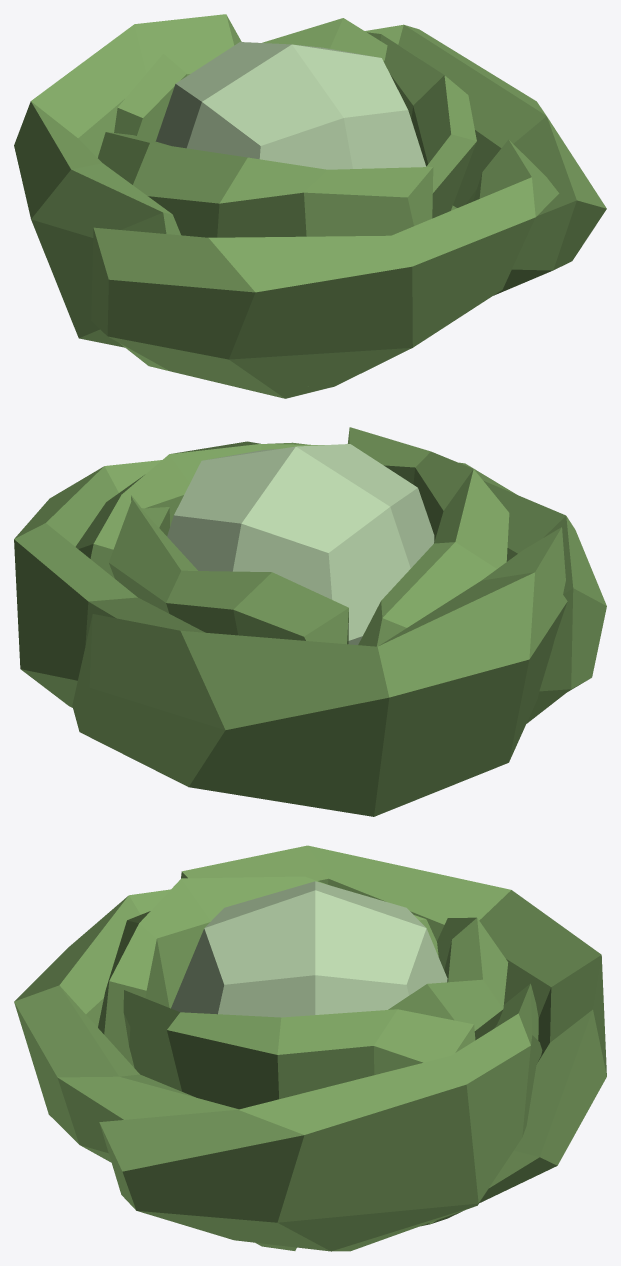
Rendered from Cabbage.fbx.
The picture shows the model from 3 angles, top to bottom: view 1: azimuth 30°, elevation 25°; view 2: azimuth 150°, elevation 25°; view 3: azimuth 270°, elevation 25°; orthographic projection. The views are drawn at different scales.
Visible parts, largest first — view 1: Cube.001, Cube, Cube.005, Cube.002, Cube.007, Cube.003, Cube.004; view 2: Cube.005, Cube, Cube.007, Cube.004, Cube.002, Cube.001, Cube.003; view 3: Cube.007, Cube.005, Cube, Cube.003, Cube.001, Cube.002, Cube.004.
Part boxes in pixels (<box>): Cube.001: <box>91,139,559,398</box>; Cube: <box>155,42,426,169</box>; Cube.005: <box>14,14,241,347</box>; Cube.002: <box>98,132,433,237</box>; Cube.007: <box>365,24,606,295</box>; Cube.003: <box>367,32,476,218</box>; Cube.004: <box>114,18,387,141</box>; Cube.005: <box>72,527,567,816</box>; Cube: <box>167,444,434,644</box>; Cube.007: <box>14,460,204,707</box>; Cube.004: <box>109,495,348,644</box>; Cube.002: <box>347,427,509,646</box>; Cube.001: <box>267,442,606,723</box>; Cube.003: <box>75,441,324,578</box>; Cube.007: <box>99,983,542,1251</box>; Cube.005: <box>181,845,606,1226</box>; Cube: <box>171,881,447,1017</box>; Cube.003: <box>123,990,475,1109</box>; Cube.001: <box>14,889,296,1250</box>; Cube.002: <box>98,876,438,1067</box>; Cube.004: <box>388,917,508,1040</box>.
Size of the model in its own units: 251 by 157 by 250.
